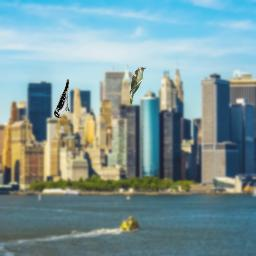Cuckoo: (129, 66, 147, 106)
Woodpecker: (54, 79, 70, 119)
